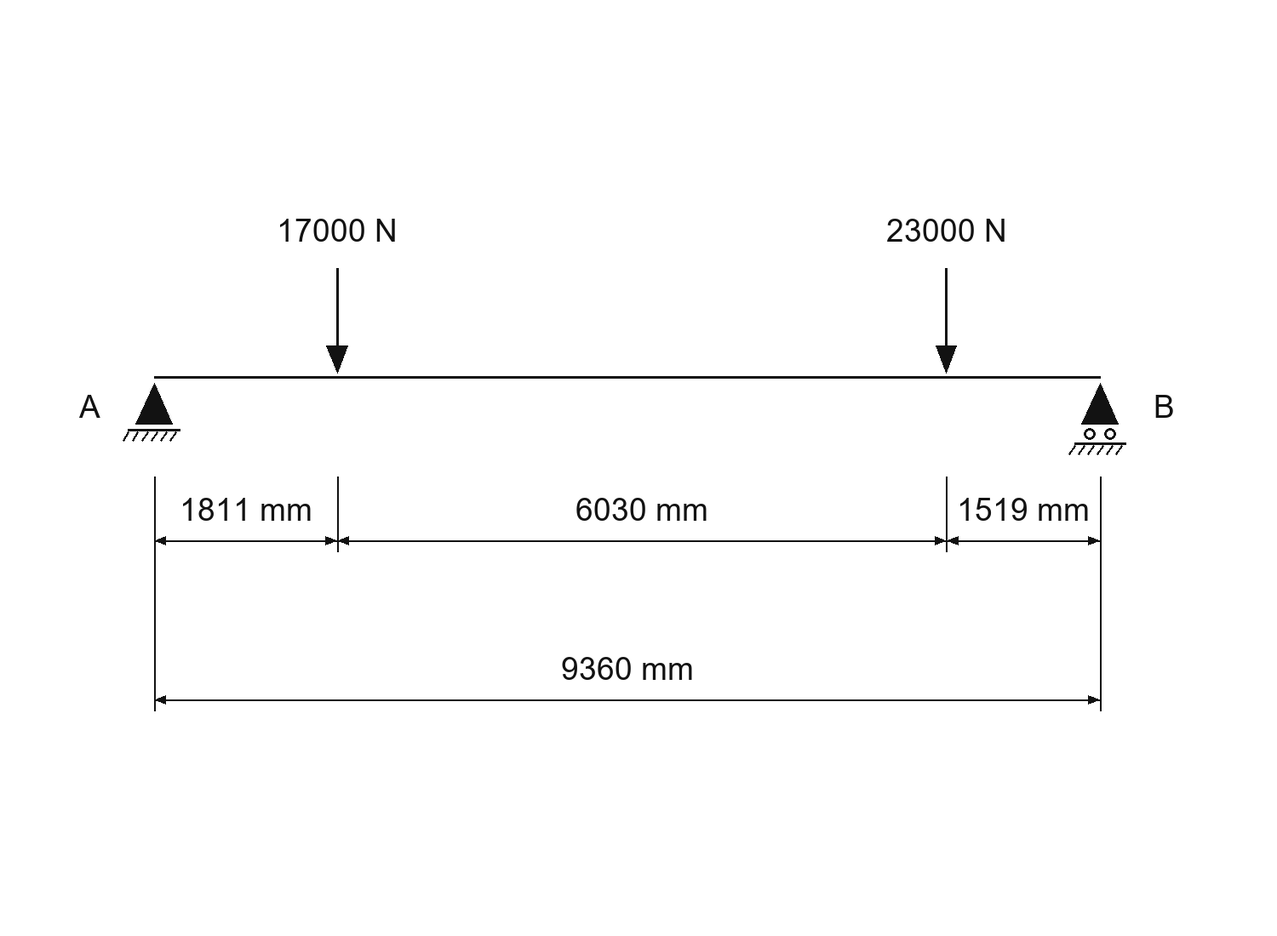pin_support: (123, 383, 180, 442)
point_load: (326, 268, 348, 374), (936, 268, 957, 374)
roller_support: (1068, 383, 1126, 455)
